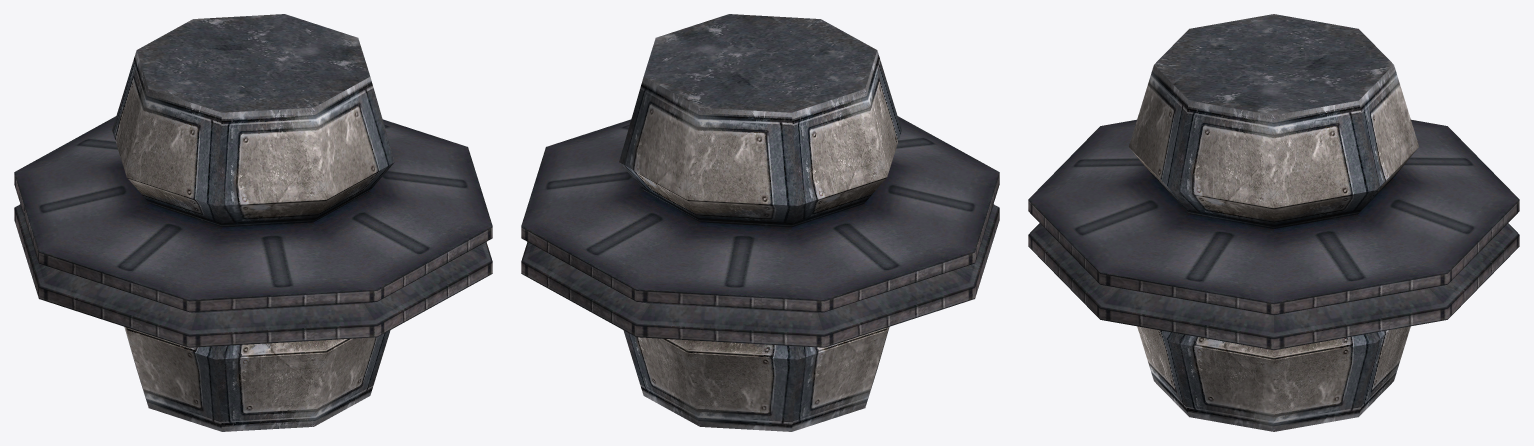
File: kessel_mine_turret_main_s01_l1.fbx
The picture shows the model from 3 angles, left to right: view 1: azimuth 30°, elevation 25°; view 2: azimuth 150°, elevation 25°; view 3: azimuth 270°, elevation 25°; orthographic projection.
Parts seen in each view (by area): view 1: mesh_node; view 2: mesh_node; view 3: mesh_node.
Part boxes in pixels (x1,y1,x2,y2): mesh_node: (14, 14, 492, 431); mesh_node: (521, 14, 999, 431); mesh_node: (1028, 14, 1519, 431).
Bounding box in the file's own units: 8.9 × 6.32 × 8.9.
